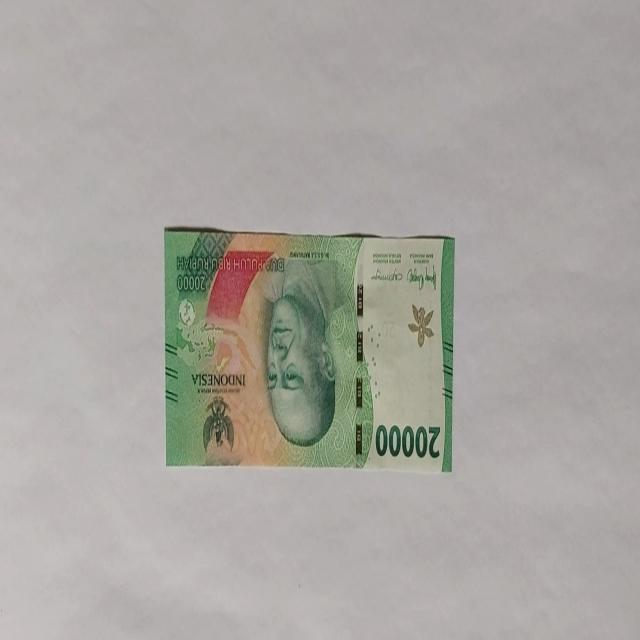dua puluh ribu rupiah: (163, 226, 454, 471), (261, 257, 339, 448)
